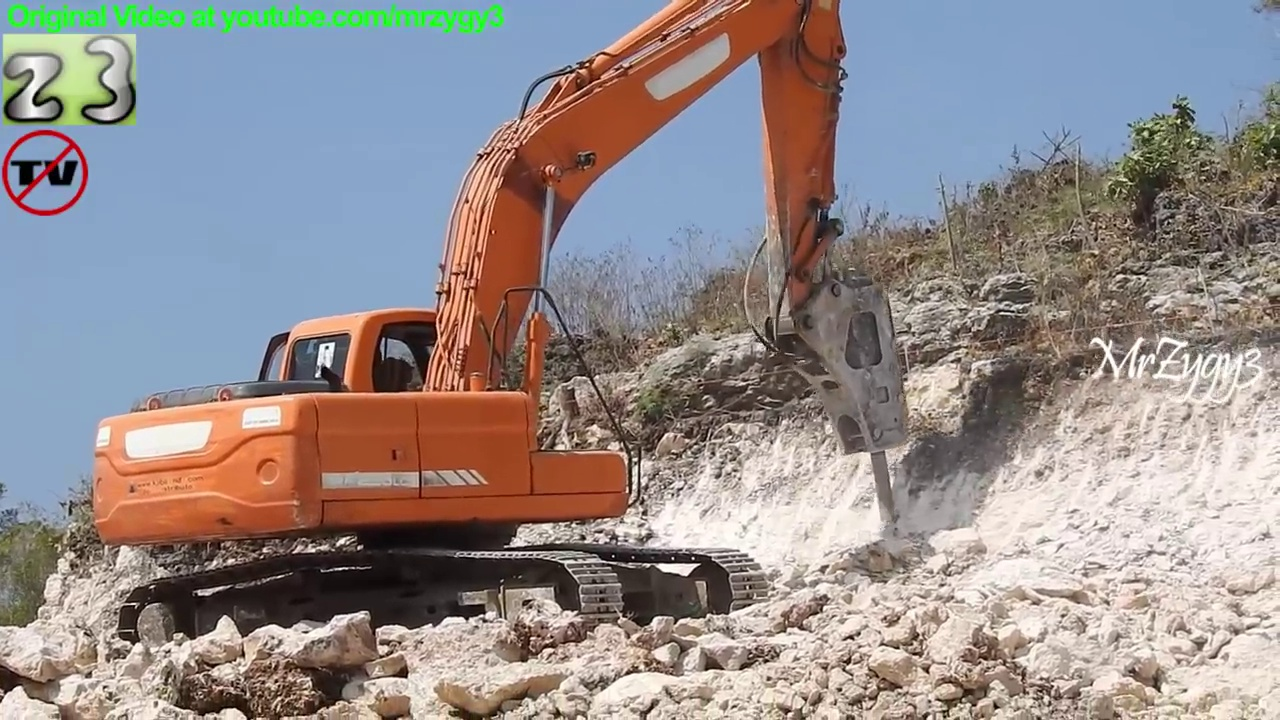excavator: (85, 1, 916, 658)
